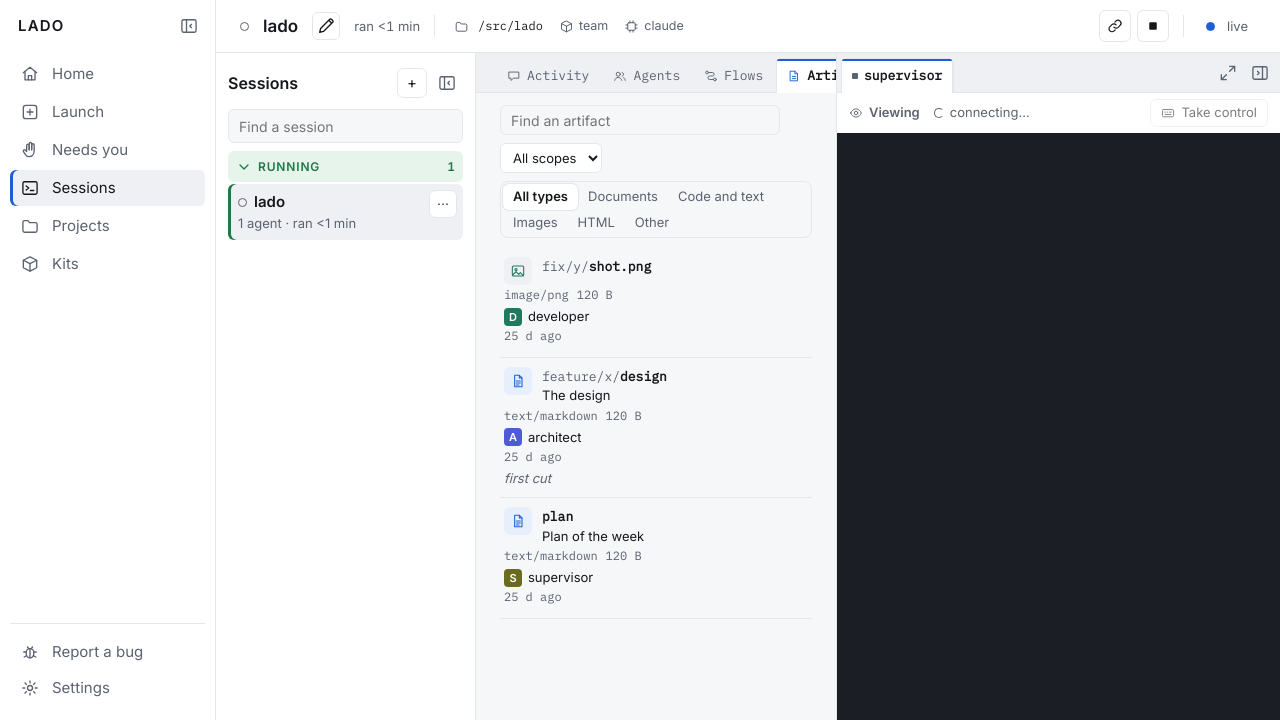
a row opens the artifact's latest record in the panel over the list; Esc closes it
The image size is (1280, 720).
Type "design" into the search field labelled "Find an artifact" at (640, 120), box x1=500 y1=105 x2=780 y2=135
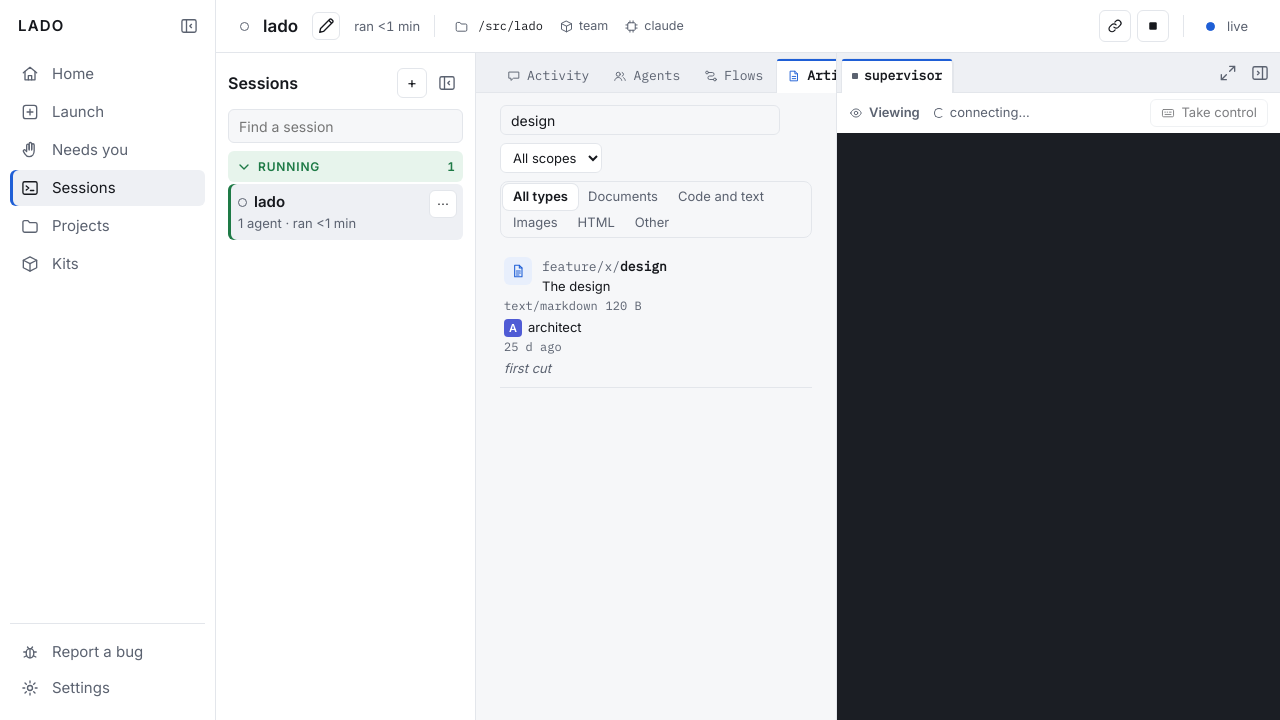
Click the text "first cut" at (528, 368), box x1=500 y1=358 x2=812 y2=379
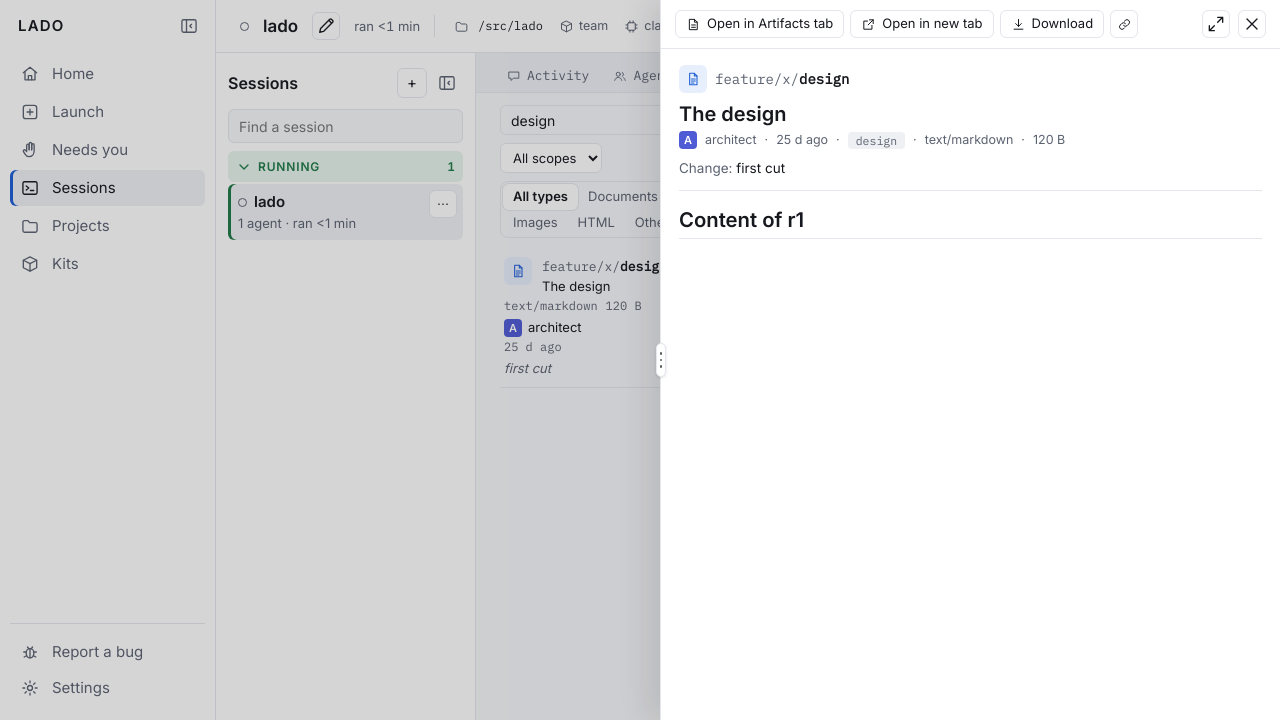
Expected: the heading "Content of r1" is shown, x1=679 y1=207 x2=1262 y2=239
Press Escape in the dialog named "Artifact feature/x/design", box x1=660 y1=0 x2=1279 y2=719
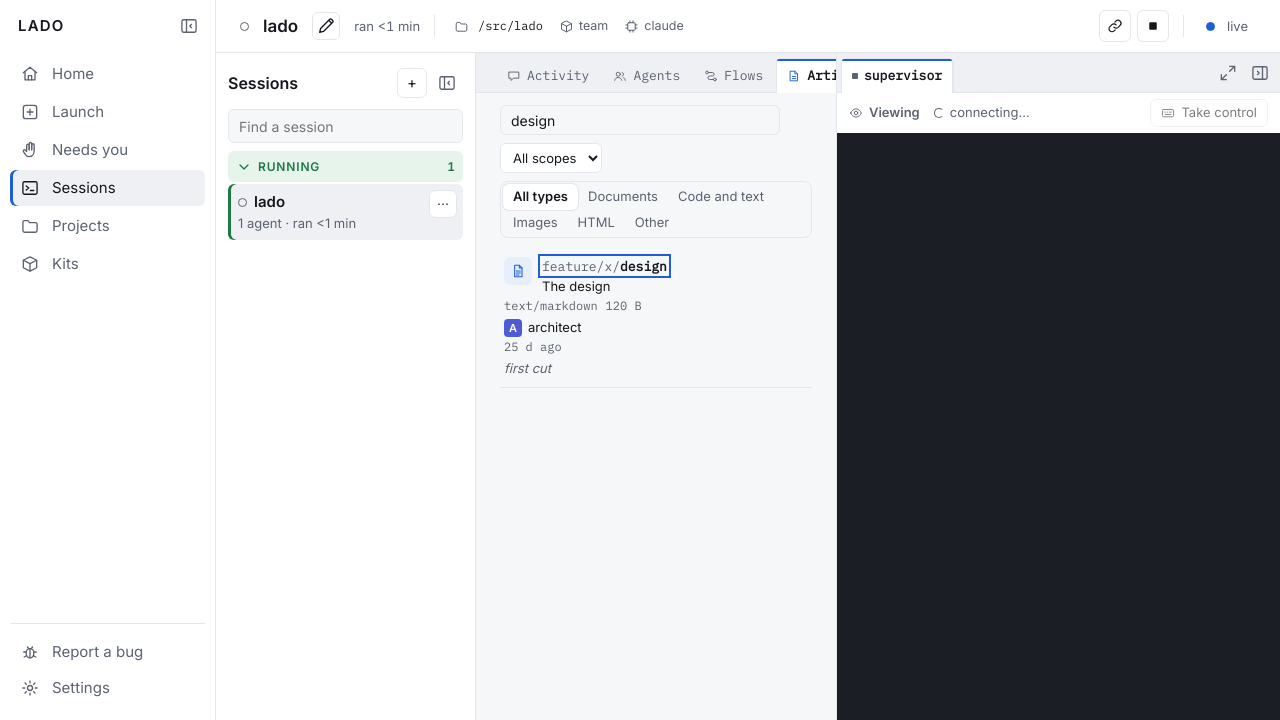
Expected: the dialog is gone
